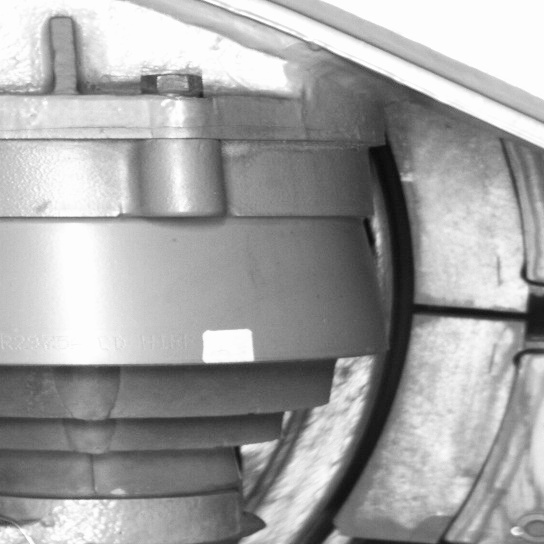KnifeSwitch: (283, 140, 541, 542)
